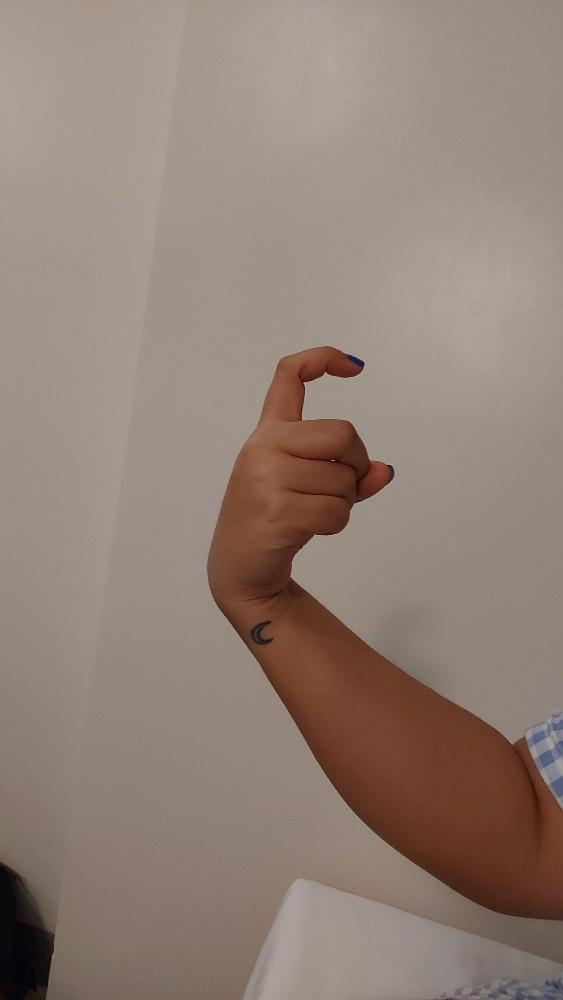x: (203, 341, 397, 608)
